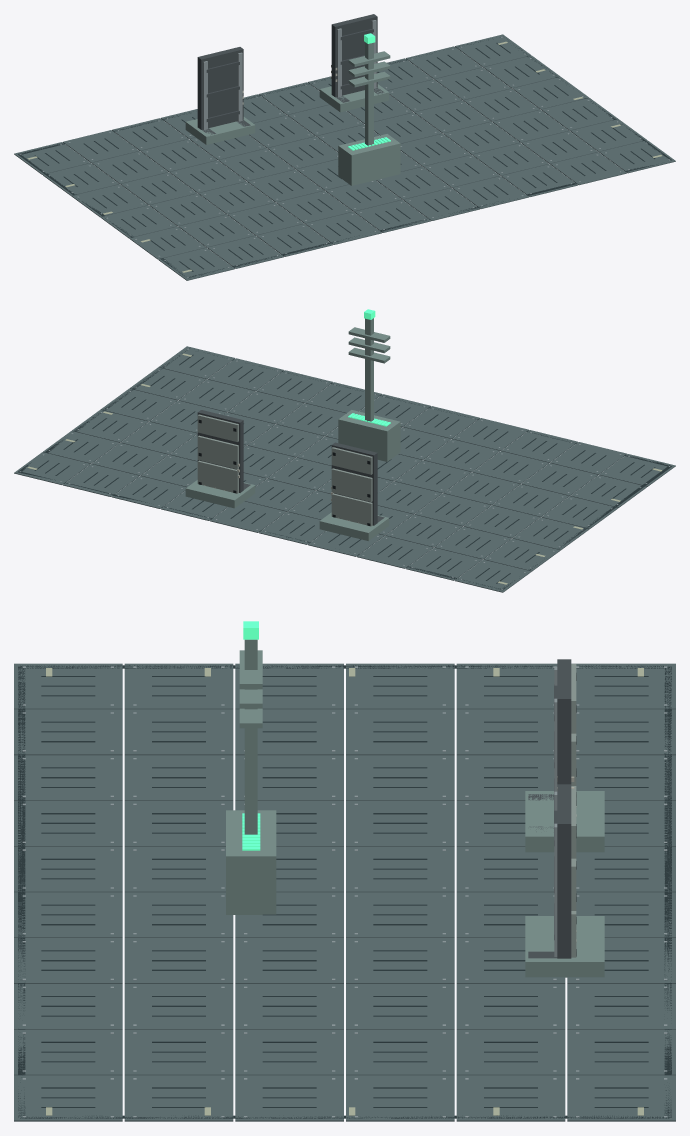
File: uplink-defense.glb
The picture shows the model from 3 angles, top to bottom: view 1: azimuth 30°, elevation 25°; view 2: azimuth 150°, elevation 25°; view 3: azimuth 270°, elevation 25°; orthographic projection. The views are drawn at different scales.
Visible parts, largest first — view 1: Continuous armor backing, Transmitter cabinet, Continuous armor backing.001, Flush deck cassette.041, Flush deck cassette.053, Flush deck cassette.023, Flush deck cassette.035, Flush deck cassette.011, Flush deck cassette.015, Flush deck cassette.016, Flush deck cassette.022, Flush deck cassette.044 (+53 smaller); view 2: Transmitter cabinet, Flush deck cassette.012, Flush deck cassette.048, Flush deck cassette.013, Flush deck cassette.007, Flush deck cassette.009, Flush deck cassette.016, Flush deck cassette.021, Flush deck cassette.039, Flush deck cassette.050, Flush deck cassette.015, Flush deck cassette.047 (+57 smaller); view 3: Flush deck cassette.010, Flush deck cassette.049, Flush deck cassette.052, Flush deck cassette.008, Flush deck cassette.026, Flush deck cassette.050, Flush deck cassette.051, Flush deck cassette.055, Flush deck cassette.058, Flush deck cassette.057, Flush deck cassette.004, Flush deck cassette.056 (+58 smaller).
Part boxes in pixels (left/top/right/bottom): Continuous armor backing: left=197, top=47, right=243, bottom=129; Transmitter cabinet: left=338, top=134, right=400, bottom=185; Continuous armor backing.001: left=331, top=14, right=377, bottom=97; Flush deck cassette.041: left=452, top=176, right=528, bottom=208; Flush deck cassette.053: left=550, top=152, right=626, bottom=185; Flush deck cassette.023: left=305, top=212, right=381, bottom=244; Flush deck cassette.035: left=403, top=188, right=479, bottom=220; Flush deck cassette.011: left=207, top=236, right=283, bottom=268; Flush deck cassette.015: left=198, top=181, right=274, bottom=214; Flush deck cassette.016: left=227, top=202, right=304, bottom=235; Flush deck cassette.022: left=276, top=190, right=352, bottom=223; Flush deck cassette.044: left=414, top=100, right=491, bottom=133; Transmitter cabinet: left=338, top=410, right=400, bottom=461; Flush deck cassette.012: left=357, top=535, right=433, bottom=568; Flush deck cassette.048: left=63, top=464, right=139, bottom=496; Flush deck cassette.013: left=386, top=514, right=462, bottom=547; Flush deck cassette.007: left=435, top=526, right=511, bottom=559; Flush deck cassette.009: left=493, top=484, right=569, bottom=517; Flush deck cassette.016: left=473, top=451, right=548, bottom=484; Flush deck cassette.021: left=394, top=460, right=471, bottom=493; Flush deck cassette.039: left=247, top=424, right=324, bottom=457; Flush deck cassette.050: left=120, top=421, right=197, bottom=454; Flush deck cassette.015: left=443, top=472, right=520, bottom=505; Flush deck cassette.047: left=257, top=370, right=332, bottom=403; Flush deck cassette.010: left=124, top=709, right=233, bottom=755; Flush deck cassette.049: left=456, top=1029, right=565, bottom=1075; Flush deck cassette.052: left=124, top=1029, right=233, bottom=1075; Flush deck cassette.008: left=346, top=709, right=454, bottom=755; Flush deck cassette.026: left=346, top=846, right=454, bottom=892; Flush deck cassette.050: left=346, top=1029, right=454, bottom=1075; Flush deck cassette.051: left=235, top=1029, right=343, bottom=1075; Flush deck cassette.055: left=456, top=1075, right=565, bottom=1121; Flush deck cassette.058: left=124, top=1075, right=233, bottom=1121; Flush deck cassette.057: left=235, top=1075, right=343, bottom=1121; Flush deck cassette.004: left=124, top=663, right=233, bottom=709; Flush deck cassette.056: left=346, top=1075, right=454, bottom=1121.
Size of the model in its own units: 14.98 by 4.11 by 9.17.
